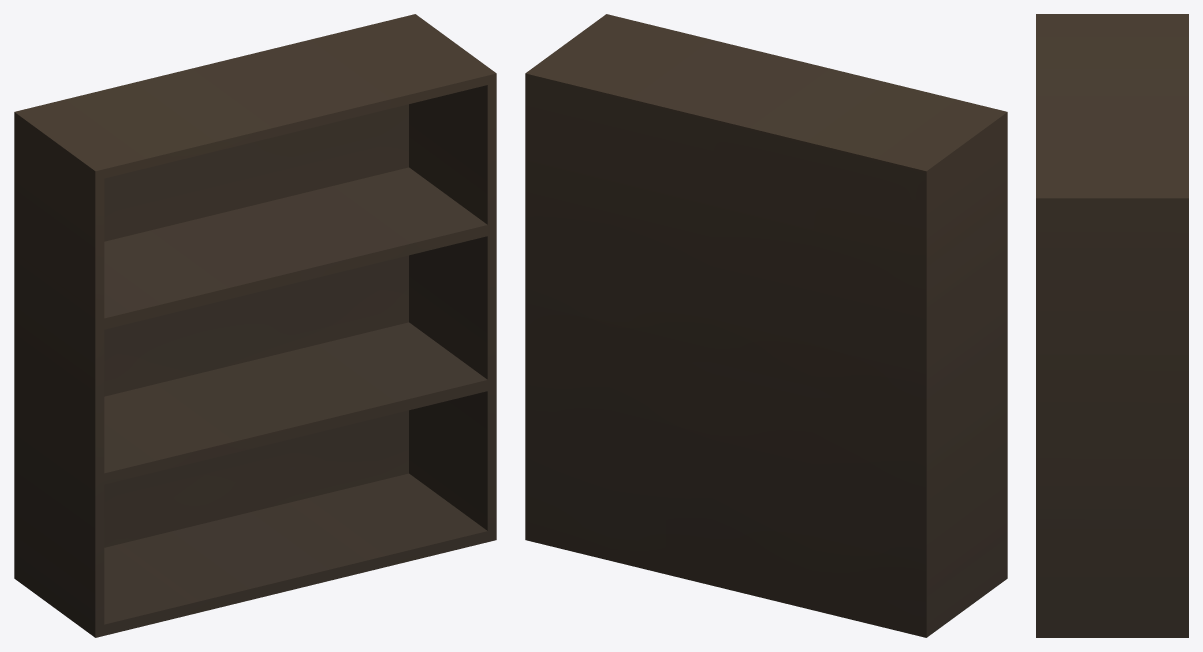
File: Shelving_3Tier_Brown.fbx
The picture shows the model from 3 angles, left to right: view 1: azimuth 30°, elevation 25°; view 2: azimuth 150°, elevation 25°; view 3: azimuth 270°, elevation 25°; orthographic projection. The views are drawn at different scales.
Parts seen in each view (by area): view 1: Shelving_3Tier_Brown; view 2: Shelving_3Tier_Brown; view 3: Shelving_3Tier_Brown.
Part boxes in pixels (bbox=[...]): Shelving_3Tier_Brown: bbox=[14, 14, 496, 637]; Shelving_3Tier_Brown: bbox=[525, 14, 1007, 637]; Shelving_3Tier_Brown: bbox=[1036, 14, 1188, 637].
Size of the model in its own units: 103 by 114 by 36.08.
